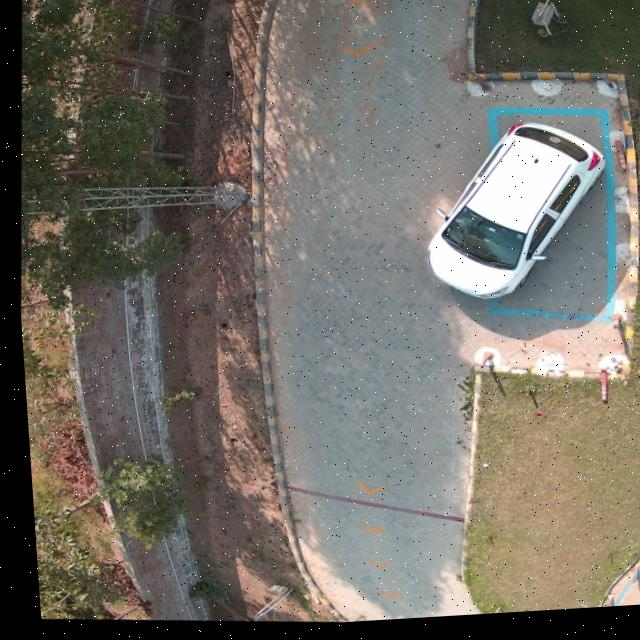car: (423, 128, 601, 303)
